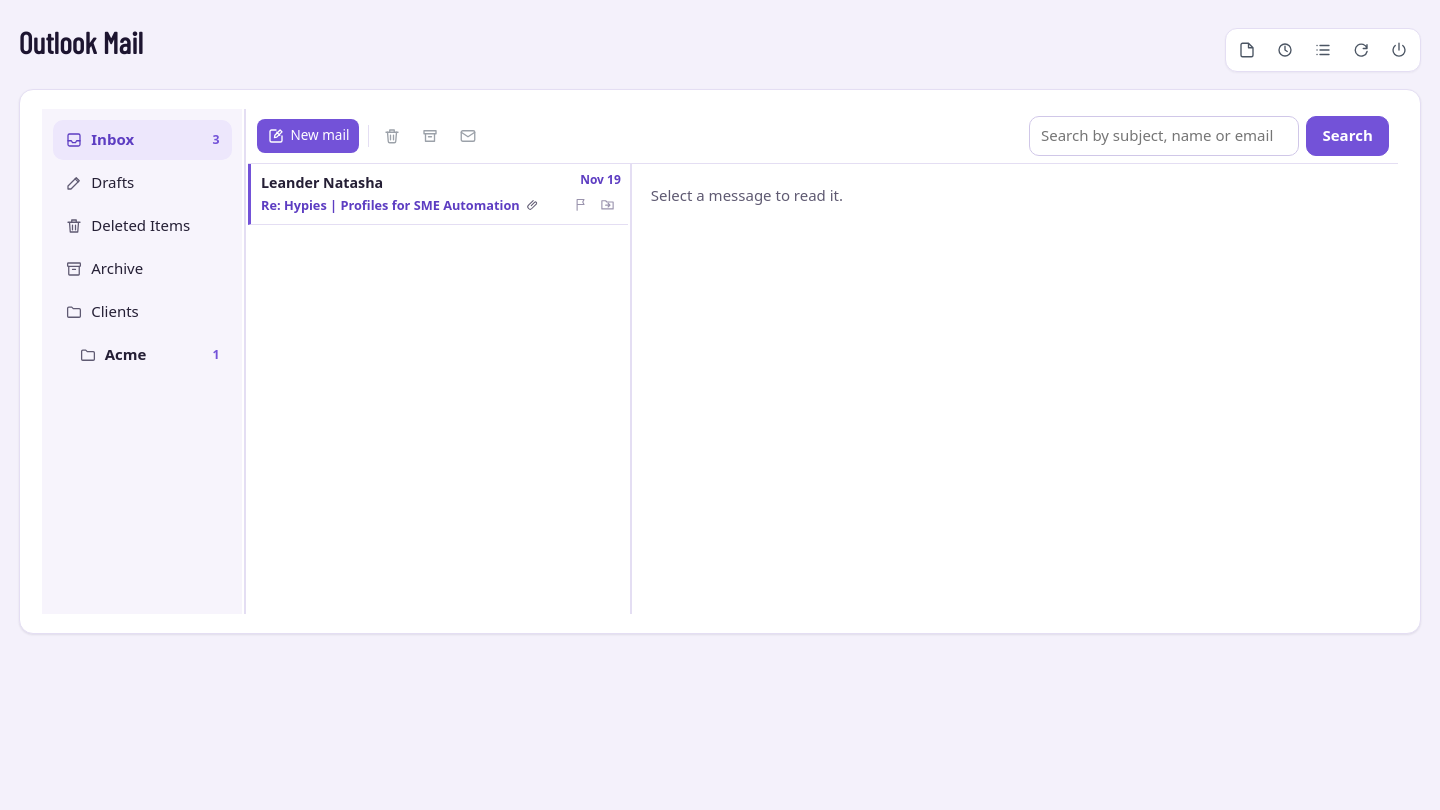
Outlook Mail reads like Outlook › lists a message's attachments once, when its body arrives after them
Click the button "Leander Natasha Re: Hypies | Profiles for SME Automation" at (410, 194), box [251,164,569,224]
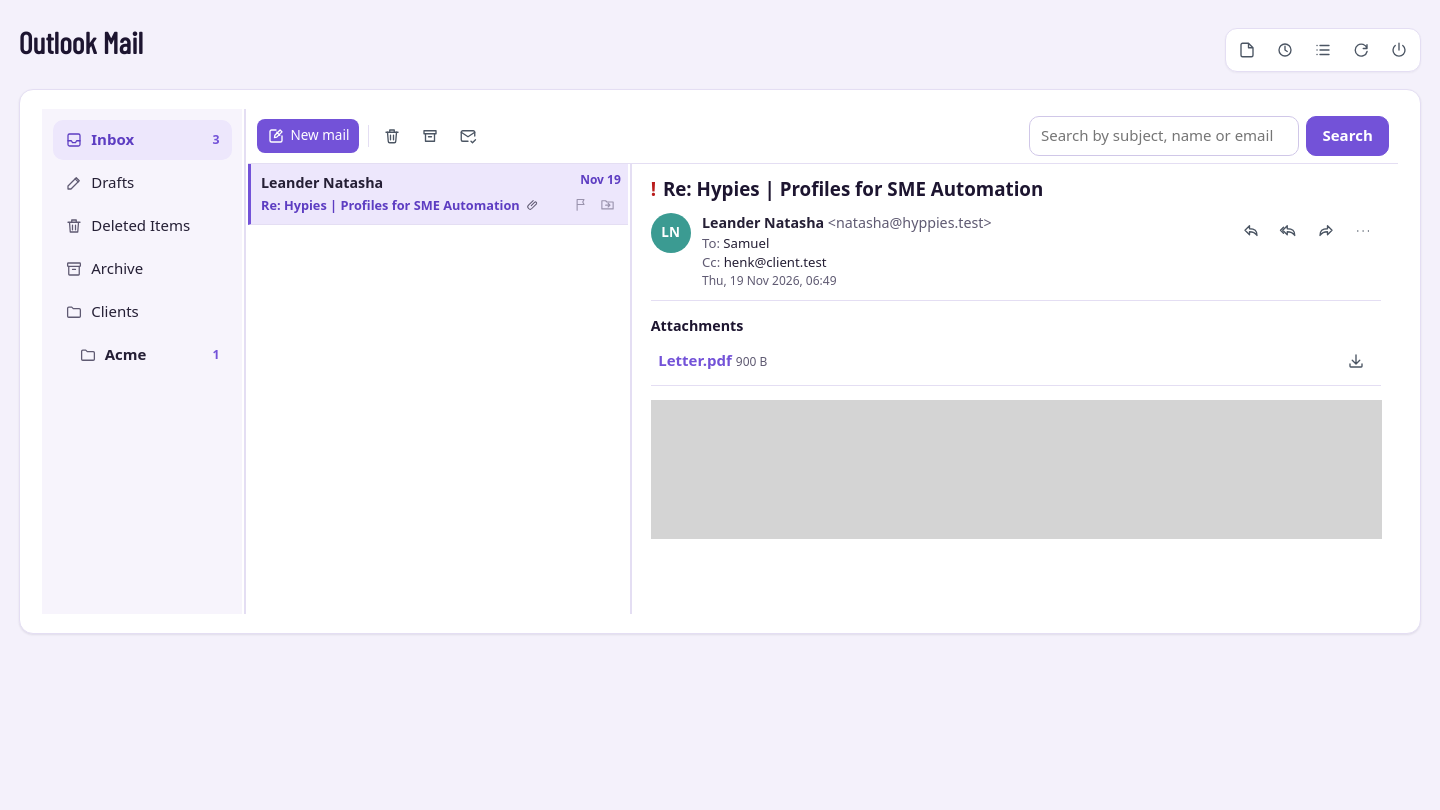
Check: the number of elements "Attachments" is 1, box [651,315,1381,386]
Check: the text "Letter.pdf" is shown once, box [658,350,732,370]
